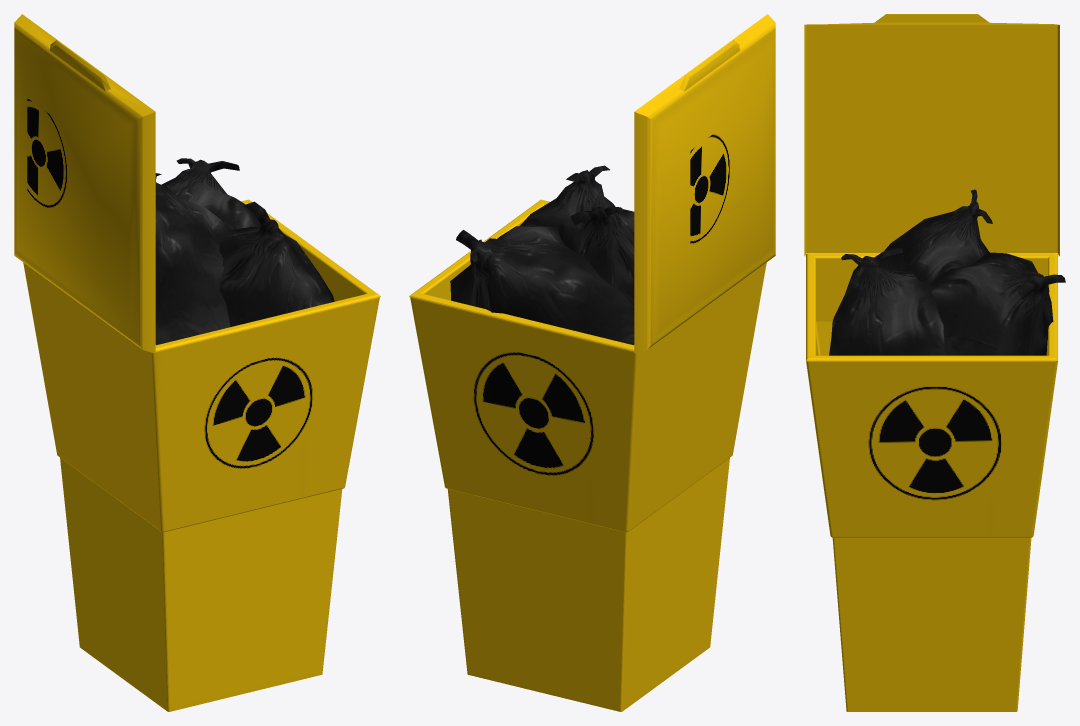
Rendered from bote toxico(verde).fbx.
The picture shows the model from 3 angles, left to right: view 1: azimuth 30°, elevation 25°; view 2: azimuth 150°, elevation 25°; view 3: azimuth 270°, elevation 25°; orthographic projection. The views are drawn at different scales.
Visible parts, largest first — view 1: Trash bin, Tapa, Garbage Bag obj.001, Garbage Bag obj, Garbage Bag obj.002; view 2: Trash bin, Tapa, Garbage Bag obj.002, Garbage Bag obj.001, Garbage Bag obj; view 3: Trash bin, Tapa, Garbage Bag obj.002, Garbage Bag obj, Garbage Bag obj.001.
Boxes of the visible parts, x1=… form: Trash bin: x1=23, y1=199, x2=380, y2=711; Tapa: x1=14, y1=14, x2=155, y2=353; Garbage Bag obj.001: x1=155, y1=173, x2=235, y2=344; Garbage Bag obj: x1=219, y1=201, x2=334, y2=326; Garbage Bag obj.002: x1=161, y1=158, x2=261, y2=229; Trash bin: x1=409, y1=199, x2=766, y2=711; Tapa: x1=634, y1=14, x2=775, y2=353; Garbage Bag obj.002: x1=450, y1=225, x2=634, y2=344; Garbage Bag obj.001: x1=558, y1=206, x2=634, y2=326; Garbage Bag obj: x1=520, y1=165, x2=614, y2=226; Trash bin: x1=806, y1=253, x2=1057, y2=711; Tapa: x1=804, y1=14, x2=1059, y2=256; Garbage Bag obj.002: x1=930, y1=252, x2=1065, y2=355; Garbage Bag obj: x1=829, y1=247, x2=945, y2=355; Garbage Bag obj.001: x1=879, y1=189, x2=992, y2=283.
Bounding box in the file's own units: 279 × 671 × 263.
Materials: 3 (3 with a texture image).
